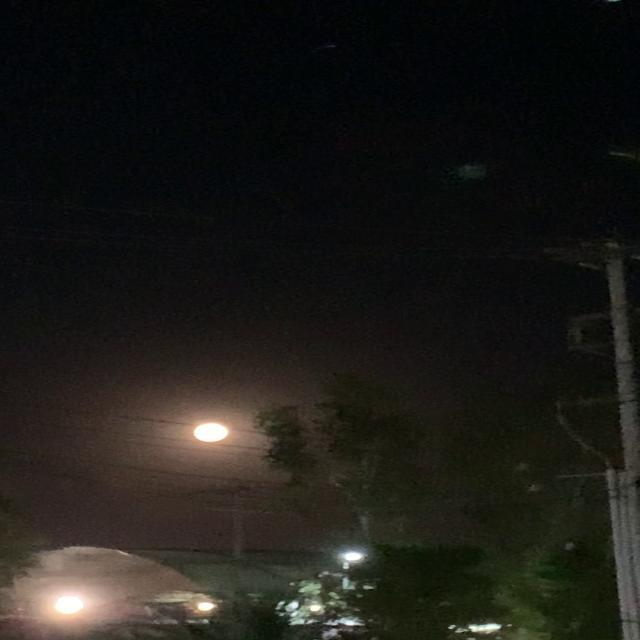moon: (185, 420, 228, 444)
